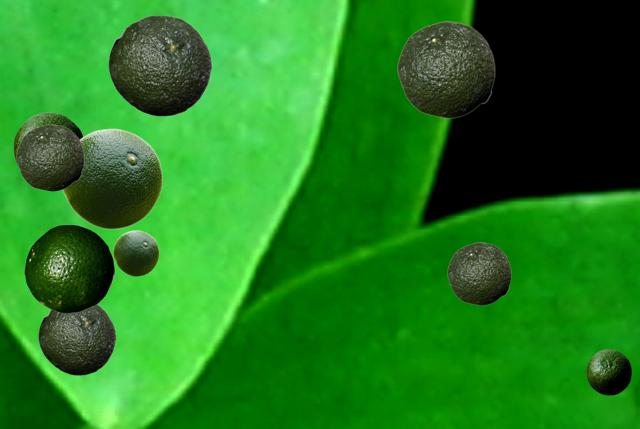calamansi: (108, 15, 211, 115), (62, 128, 162, 228), (397, 21, 494, 117), (24, 224, 114, 312), (38, 305, 115, 374), (16, 124, 83, 190), (447, 242, 510, 304), (13, 112, 83, 164), (113, 230, 158, 275), (586, 349, 630, 394)
